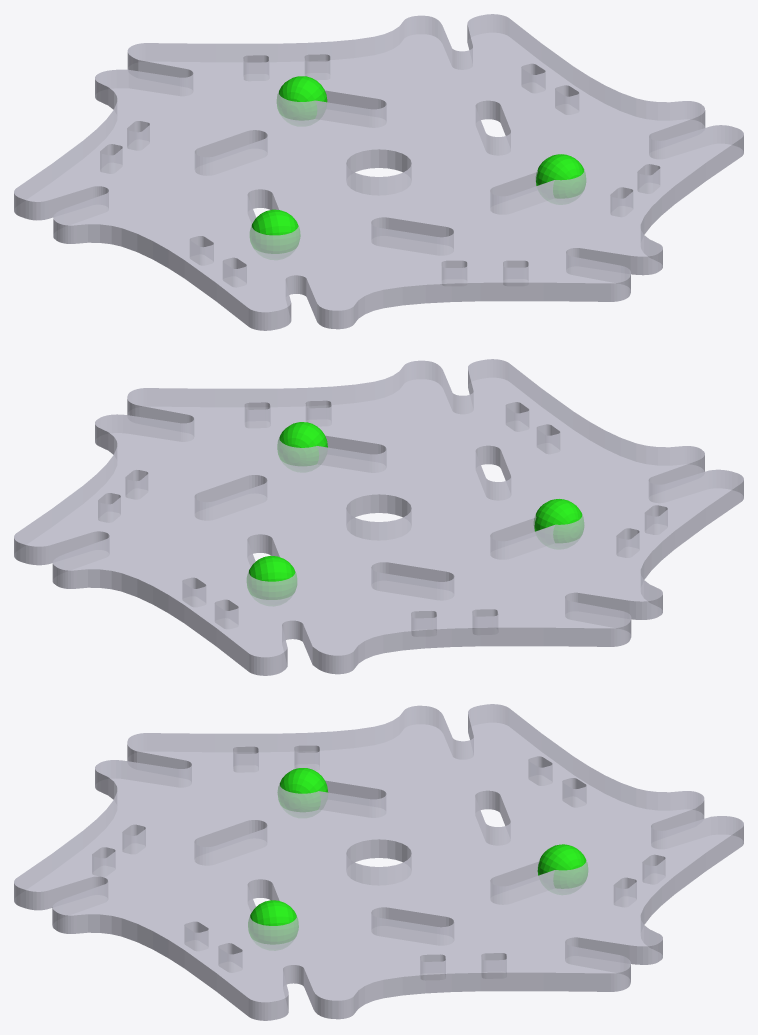
Rendered from Amaria_b1.fbx.
3 views of the same model, one above another, from view 1: azimuth 30°, elevation 25°; view 2: azimuth 150°, elevation 25°; view 3: azimuth 270°, elevation 25° (orthographic).
Parts seen in each view (by area): view 1: Amaria_b1, c_2, c, c_1; view 2: Amaria_b1, c, c_1, c_2; view 3: Amaria_b1, c_1, c_2, c.
Part boxes in pixels (box(x1,y1,x2,y2)): Amaria_b1: box(14, 14, 743, 330); c_2: box(250, 209, 300, 253); c: box(277, 76, 327, 120); c_1: box(536, 154, 585, 198); Amaria_b1: box(14, 359, 743, 675); c: box(247, 555, 296, 599); c_1: box(277, 422, 327, 466); c_2: box(534, 499, 583, 543); Amaria_b1: box(14, 704, 743, 1020); c_1: box(248, 900, 298, 944); c_2: box(277, 768, 328, 812); c: box(537, 844, 587, 888).
Size of the model in its own units: 69.08 by 5 by 71.45.
